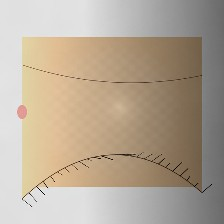pinguecula_lesion: (161, 96, 192, 121)
